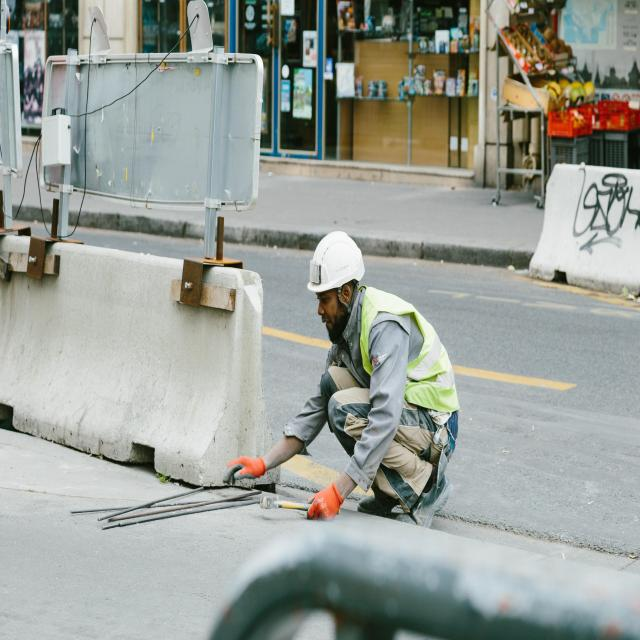Reflective-Jacket: (361, 288, 463, 420)
Safety-Helmet: (306, 224, 366, 291)
